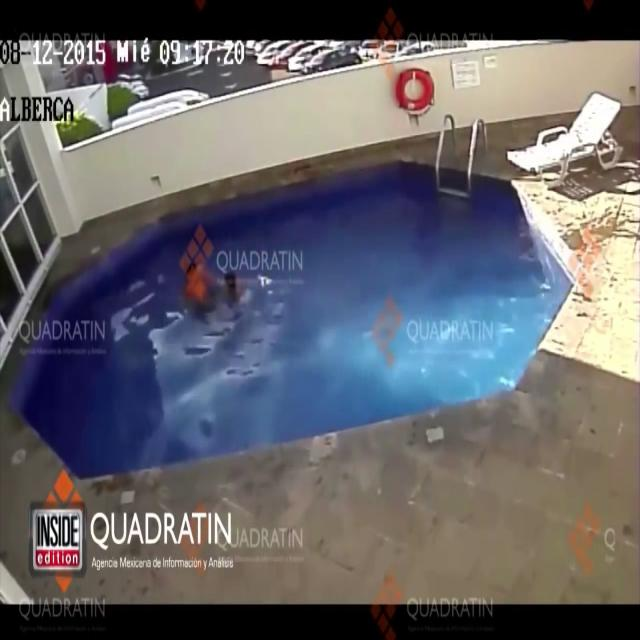adult: (183, 255, 218, 319)
child: (222, 270, 246, 308)
